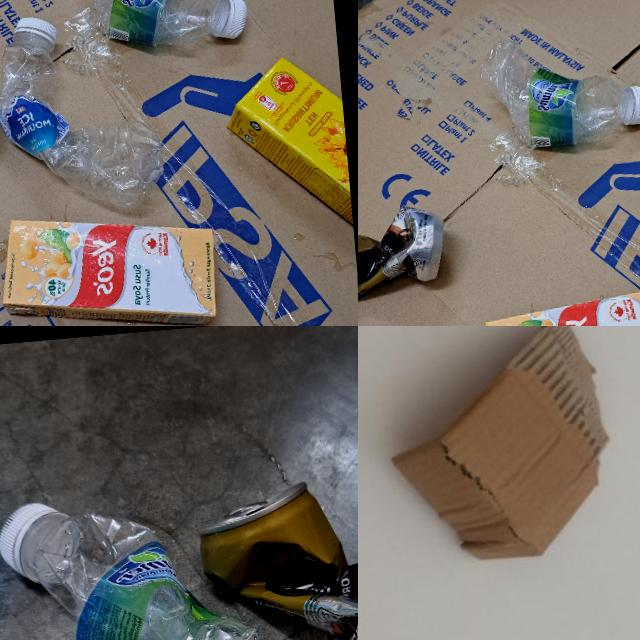aba de lata: (222, 500, 268, 518)
caixinha: (0, 200, 223, 326), (222, 53, 353, 237), (481, 277, 640, 326)
garrafa plástica: (16, 485, 358, 640), (0, 6, 164, 215), (479, 26, 631, 156), (73, 0, 248, 59)
lata: (193, 468, 358, 640), (358, 204, 455, 318)
papelão: (0, 0, 358, 326), (358, 0, 640, 326), (377, 326, 617, 566)
tampa plástica: (0, 502, 61, 577), (206, 0, 247, 40), (12, 14, 56, 49), (629, 76, 640, 121)
